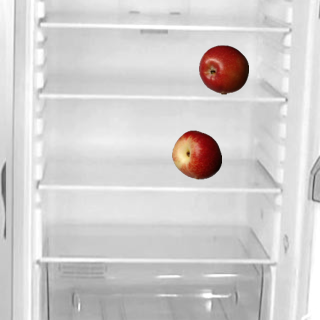Apple Braeburn: (198, 44, 248, 94)
Nectarine: (171, 129, 221, 179)
